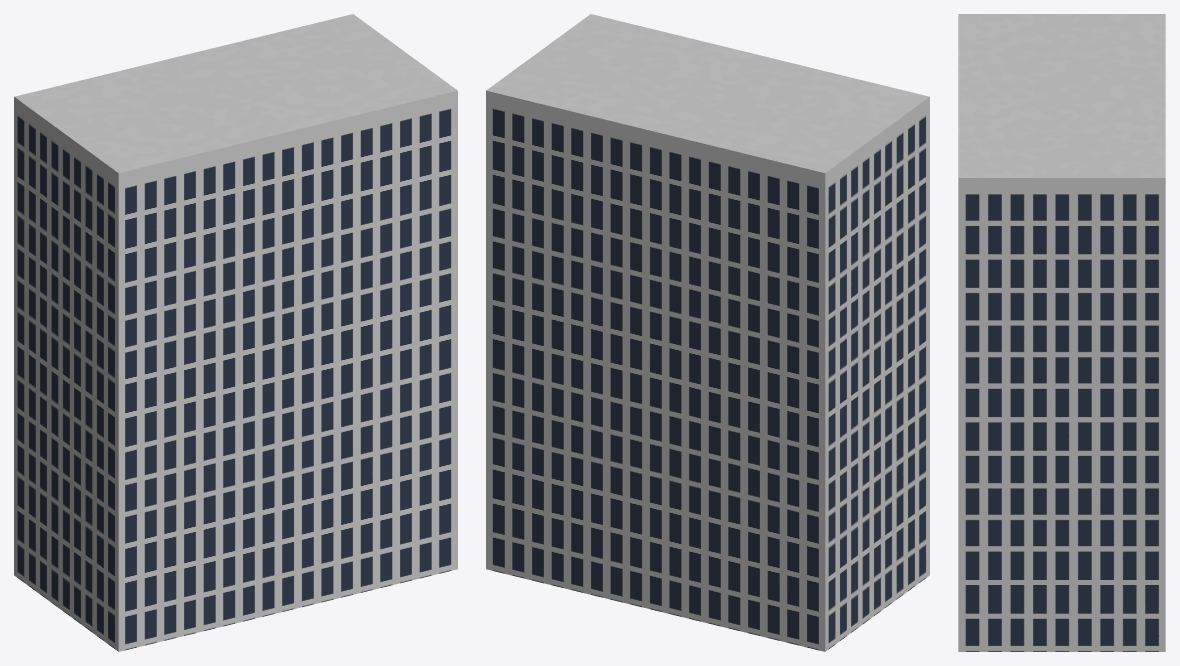
The model's file is Building_LM_W3_001.fbx.
3 renders of one model, left to right at view 1: azimuth 30°, elevation 25°; view 2: azimuth 150°, elevation 25°; view 3: azimuth 270°, elevation 25°, orthographic.
Parts seen in each view (by area): view 1: Building_LM_W3_001; view 2: Building_LM_W3_001; view 3: Building_LM_W3_001.
Boxes of the visible parts, bbox=[...] form: Building_LM_W3_001: bbox=[14, 14, 457, 651]; Building_LM_W3_001: bbox=[486, 14, 929, 651]; Building_LM_W3_001: bbox=[958, 14, 1165, 651].
Size of the model in its own units: 47.57 by 64.16 by 25.42.
